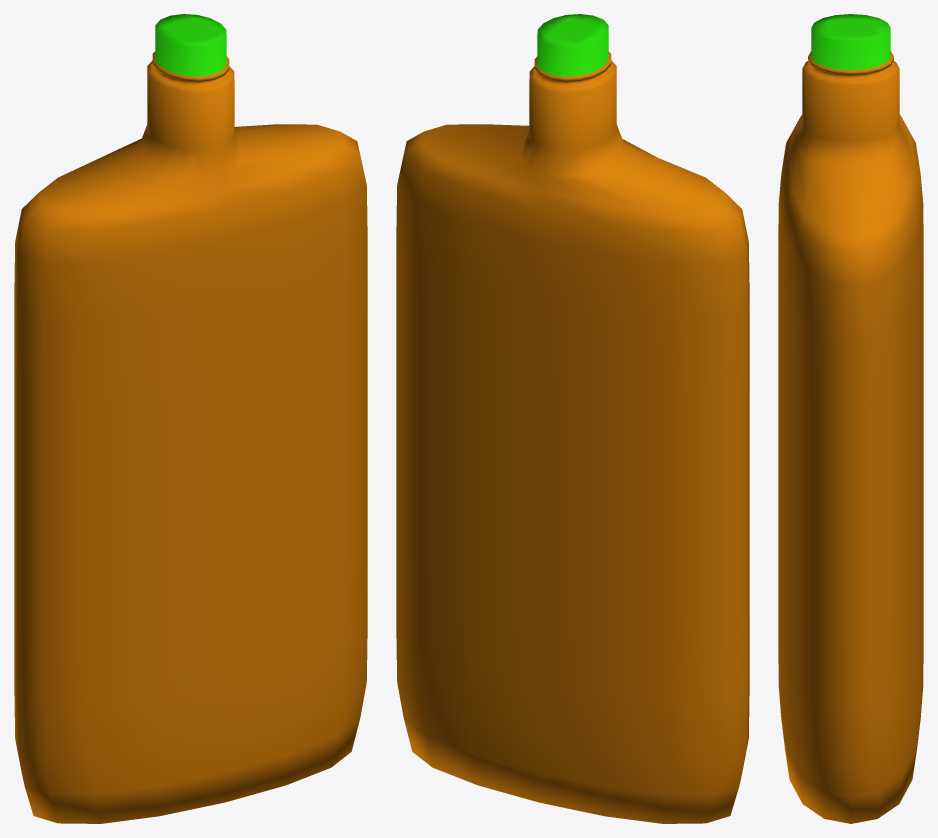
The model's file is Kossu.fbx.
3 views of the same model, side by side, from view 1: azimuth 30°, elevation 25°; view 2: azimuth 150°, elevation 25°; view 3: azimuth 270°, elevation 25° (orthographic). The views are drawn at different scales.
Visible parts, largest first — view 1: Kossu; view 2: Kossu; view 3: Kossu.
Part boxes in pixels (x1,y1,x2,y2): Kossu: [14, 14, 367, 823]; Kossu: [396, 14, 749, 823]; Kossu: [778, 14, 923, 823].
Bounding box in the file's own units: 1.17 × 2.41 × 0.4399.
